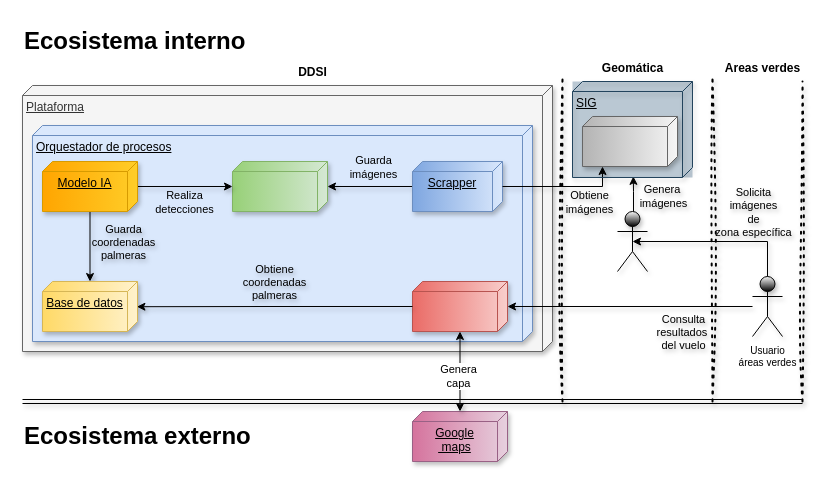
The diagram is 827 pixels wide and 485 high, and some of its shapes have lost their labels. Here are the shapes that lost their labels. From the top down, the centre of each, then its label:
pixel 630 142: MonteviMap
pixel 280 187: Repositorio imágenes
pixel 633 242: Usuario geomática
pixel 460 307: Aplicación web
